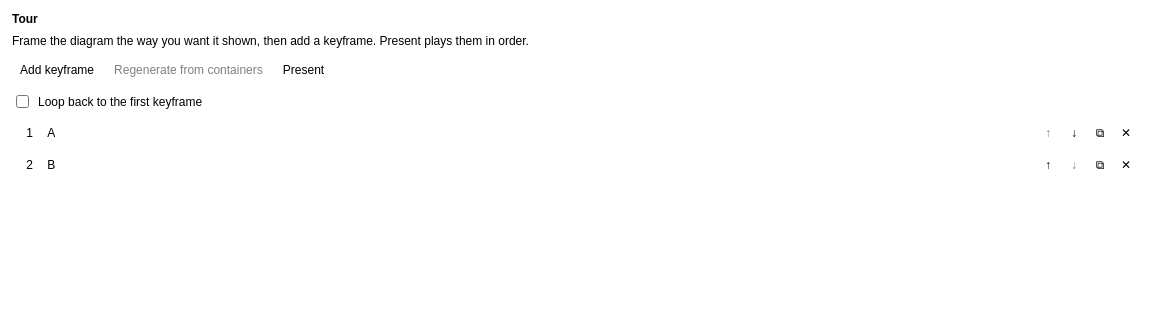
Test: reordering › Delete removes the row and selects its neighbour; deleting the last keyframe leaves no tour at all
The width and height of the screenshot is (1152, 331).
Click the button named "Delete" at x=1126, y=133, box [1114,121,1138,145]
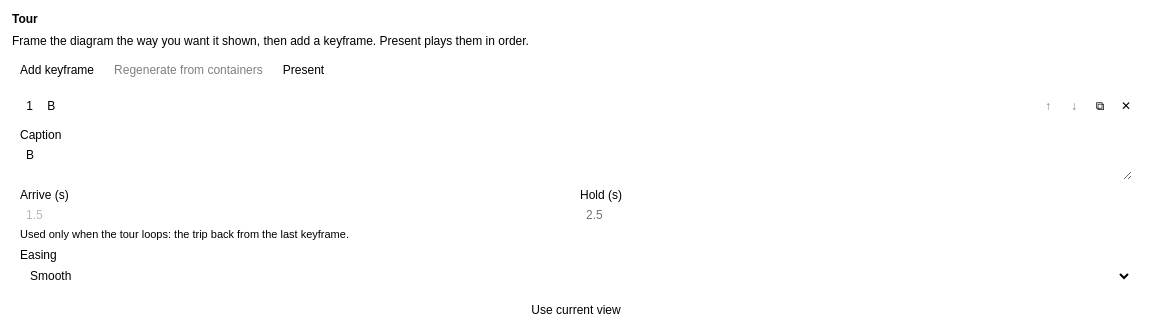
Click the button named "Delete" at x=1126, y=106, box [1114,94,1138,118]
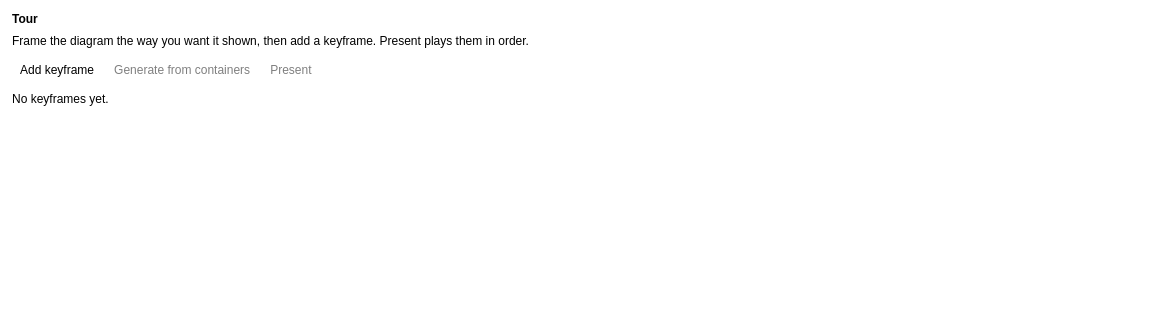
Expected: the text "No keyframes yet." is shown, [12,92,109,106]
